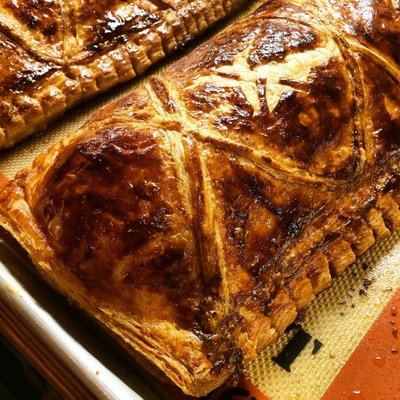sandwich: (0, 0, 399, 392), (0, 0, 253, 153)
sushi: (1, 2, 400, 397)
